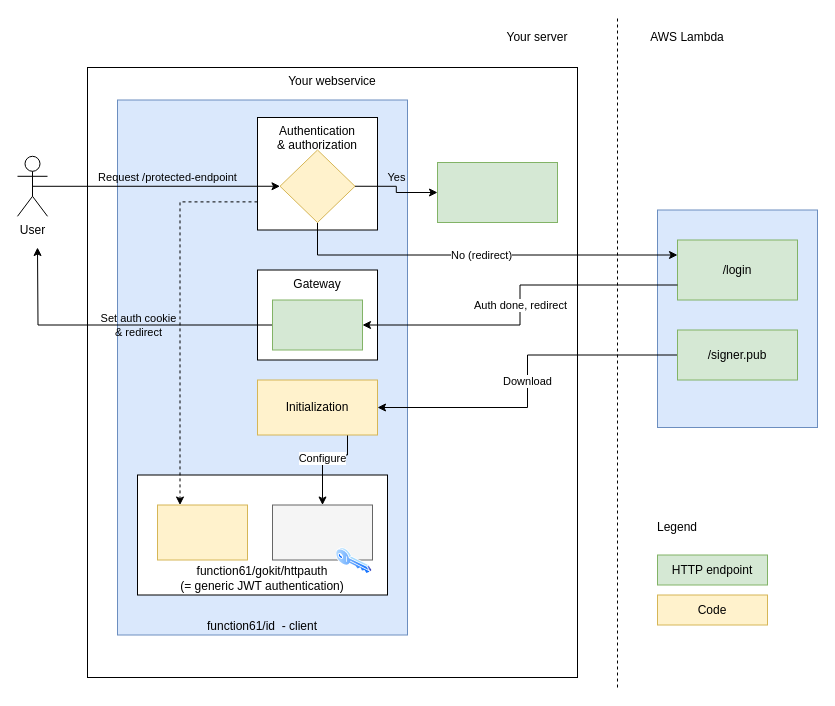
This 835x706 diagram has some shape labels left out. The box of each missing label's shape, as (x1, y1, x2, y2) in pixels:
/_auth/redirect (to original URL): (272, 299, 362, 350)
/protected-endpoint: (436, 162, 558, 222)
Authenticate(): (156, 504, 248, 560)
function61/id - server: (656, 209, 818, 428)
JWT trusted signing pubkey: (272, 504, 372, 560)
Ok?: (279, 149, 355, 222)
